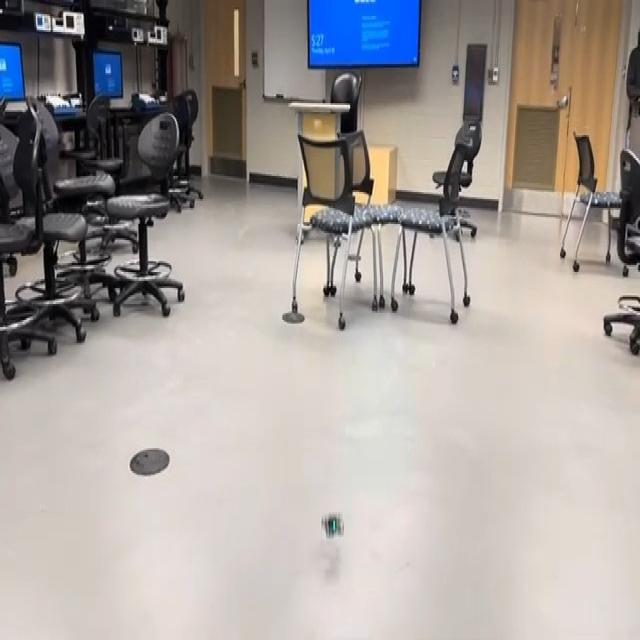drone: (312, 498, 350, 549)
